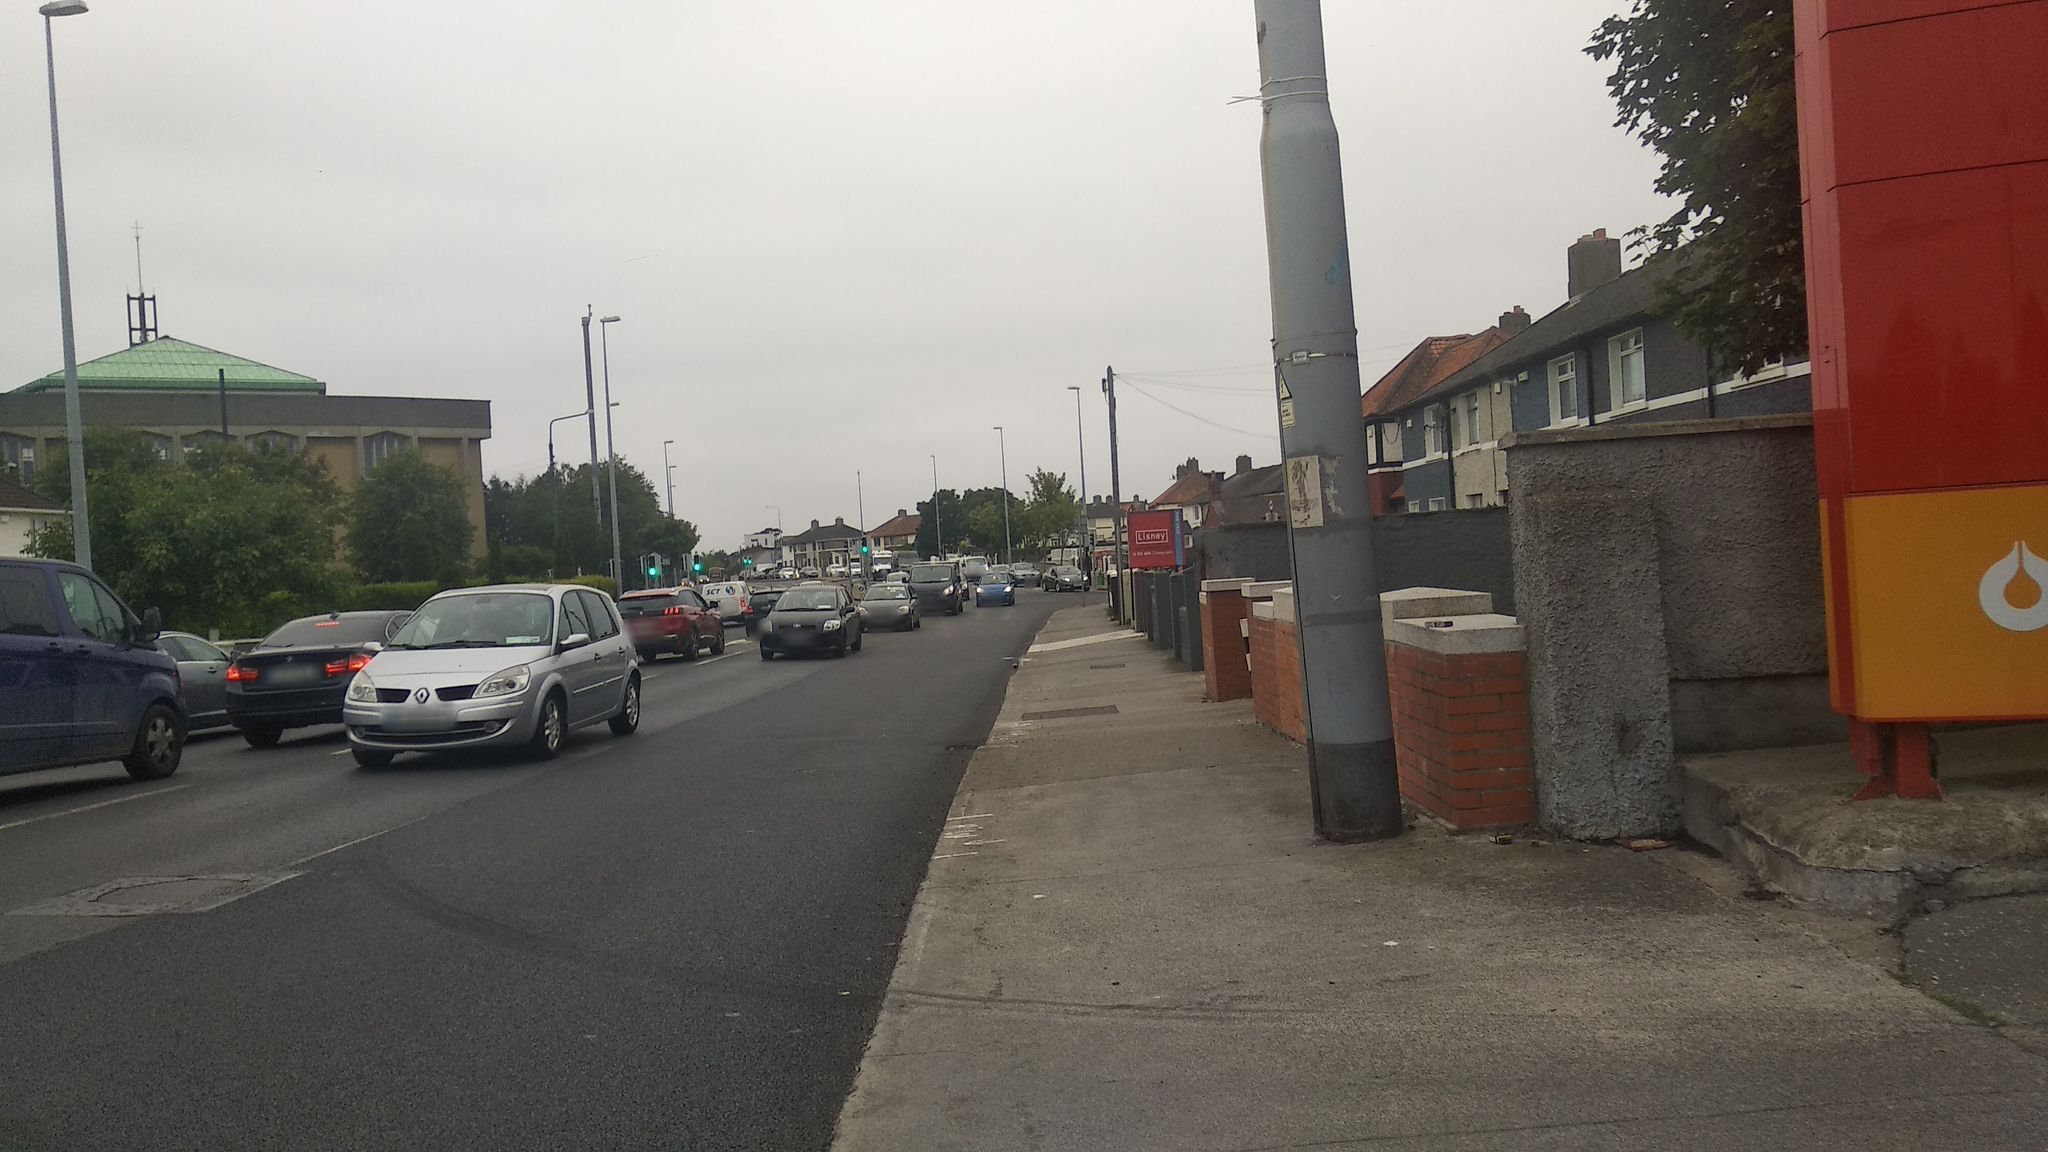property sign: (1113, 491, 1201, 575)
